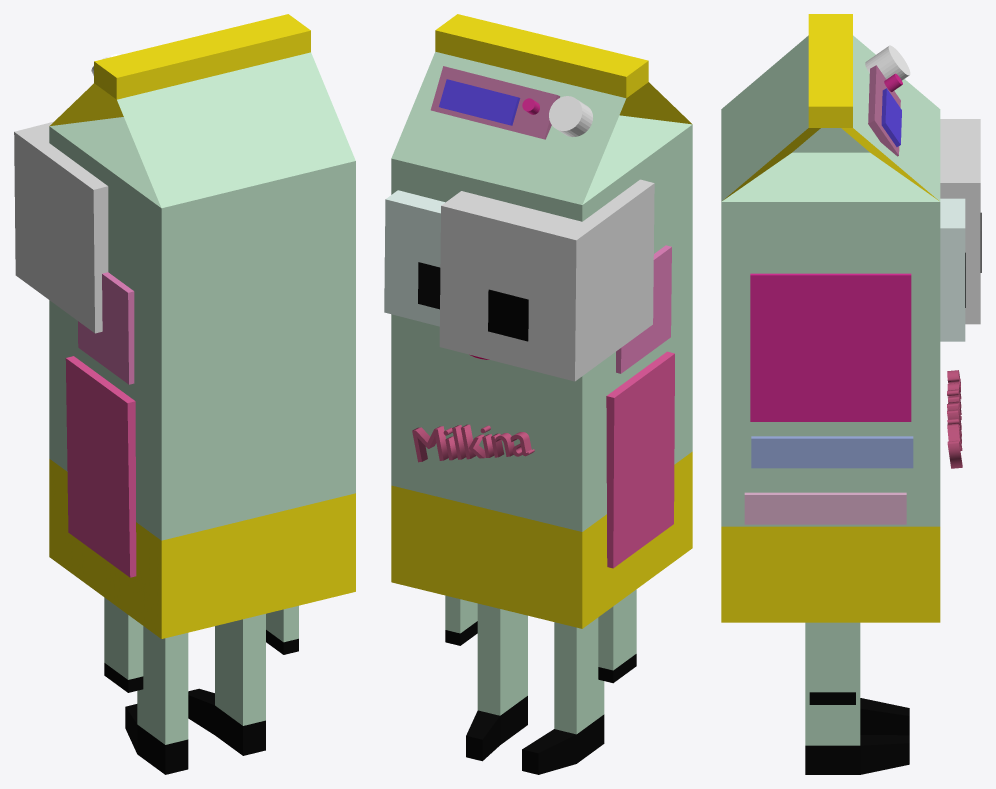
Rendered from arbol.glb.
3 views of the same model, side by side, from view 1: azimuth 30°, elevation 25°; view 2: azimuth 150°, elevation 25°; view 3: azimuth 270°, elevation 25° (orthographic). The views are drawn at different scales.
Visible parts, largest first — view 1: Cube, Cube.009, Cube.007, Cube.006; view 2: Cube, Cube.009, Cube.007, Cube.008, Cube.001, Text, Cube.006, Cube.005, Cube.011, Cylinder, Cube.010; view 3: Cube, Cube.002, Cube.003, Cube.004, Cube.009, Cube.008, Text, Cube.001, Cylinder, Cube.005.
Part boxes in pixels (left/top/right/bottom): Cube: left=49, top=14, right=355, bottom=774; Cube.009: left=14, top=121, right=108, bottom=333; Cube.007: left=65, top=356, right=136, bottom=577; Cube.006: left=78, top=272, right=134, bottom=384; Cube: left=391, top=14, right=692, bottom=774; Cube.009: left=439, top=179, right=654, bottom=381; Cube.007: left=606, top=351, right=674, bottom=568; Cube.008: left=384, top=190, right=445, bottom=326; Cube.001: left=430, top=66, right=560, bottom=139; Text: left=412, top=424, right=534, bottom=462; Cube.006: left=616, top=245, right=671, bottom=373; Cube.005: left=439, top=79, right=520, bottom=125; Cube.011: left=488, top=289, right=528, bottom=341; Cylinder: left=549, top=96, right=592, bottom=136; Cube.010: left=418, top=262, right=440, bottom=309; Cube: left=721, top=14, right=940, bottom=774; Cube.002: left=750, top=273, right=911, bottom=421; Cube.003: left=751, top=436, right=913, bottom=468; Cube.004: left=744, top=492, right=906, bottom=524; Cube.009: left=940, top=119, right=980, bottom=324; Cube.008: left=940, top=198, right=965, bottom=341; Text: left=947, top=370, right=962, bottom=468; Cube.001: left=868, top=65, right=900, bottom=156; Cylinder: left=865, top=45, right=910, bottom=80; Cube.005: left=881, top=88, right=901, bottom=146.
Size of the model in its own units: 14.1 by 44.41 by 15.18.
